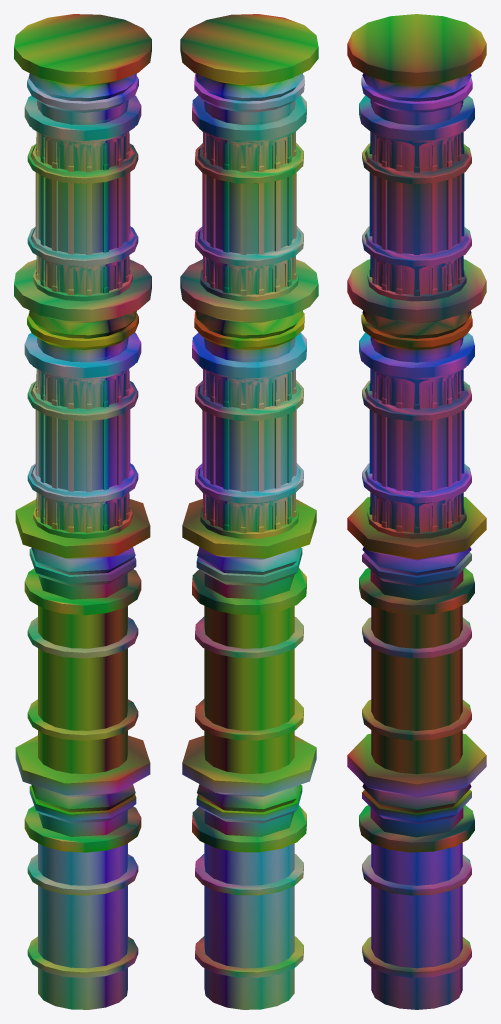
Rendered from column2.glb.
3 renders of one model, left to right at view 1: azimuth 30°, elevation 25°; view 2: azimuth 150°, elevation 25°; view 3: azimuth 270°, elevation 25°, orthographic.
Parts seen in each view (by area): view 1: column2; view 2: column2; view 3: column2.
Part boxes in pixels (x1=…): column2: x1=14, y1=14, x2=151, y2=1009; column2: x1=180, y1=14, x2=318, y2=1009; column2: x1=347, y1=14, x2=486, y2=1009.
Size of the model in its own units: 122 by 919 by 122.
